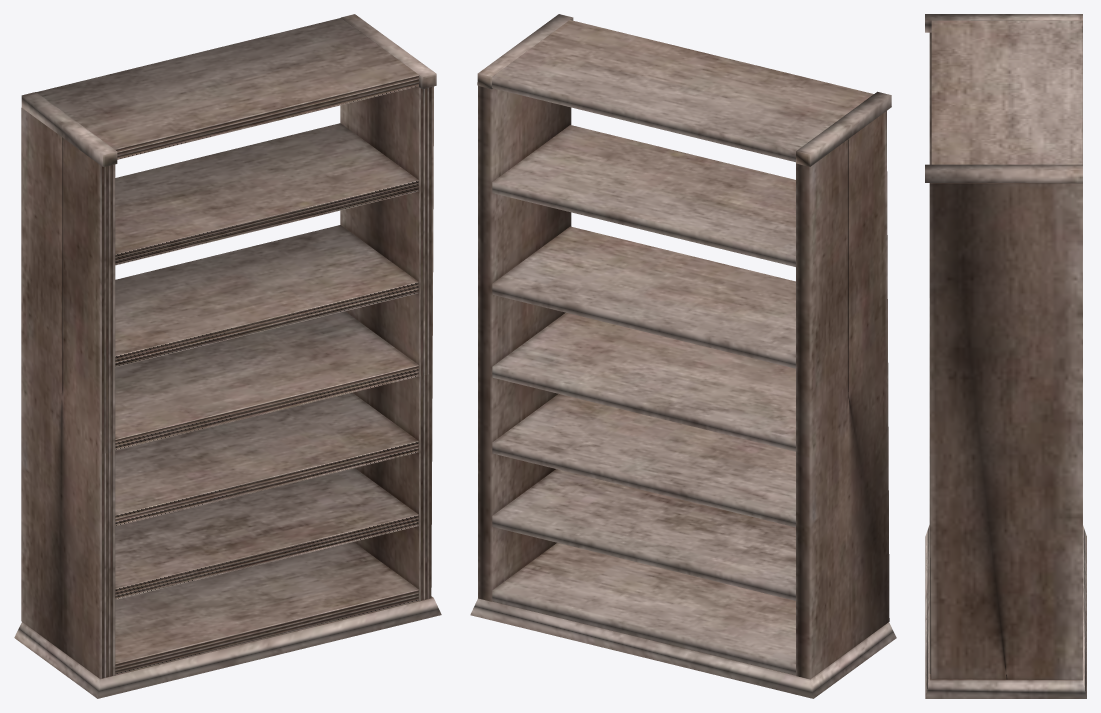
Rendered from wooden_bookshelf_worn.glb.
3 views of the same model, side by side, from view 1: azimuth 30°, elevation 25°; view 2: azimuth 150°, elevation 25°; view 3: azimuth 270°, elevation 25° (orthographic). The views are drawn at different scales.
Parts seen in each view (by area): view 1: wooden_bookshelf_worn; view 2: wooden_bookshelf_worn; view 3: wooden_bookshelf_worn.
Boxes of the visible parts, <box> form: wooden_bookshelf_worn: <box>14,14,441,698</box>; wooden_bookshelf_worn: <box>470,14,896,698</box>; wooden_bookshelf_worn: <box>925,14,1086,698</box>.
Bounding box in the file's own units: 1.37 × 2.06 × 0.5766.
1 material, 1 textured.
